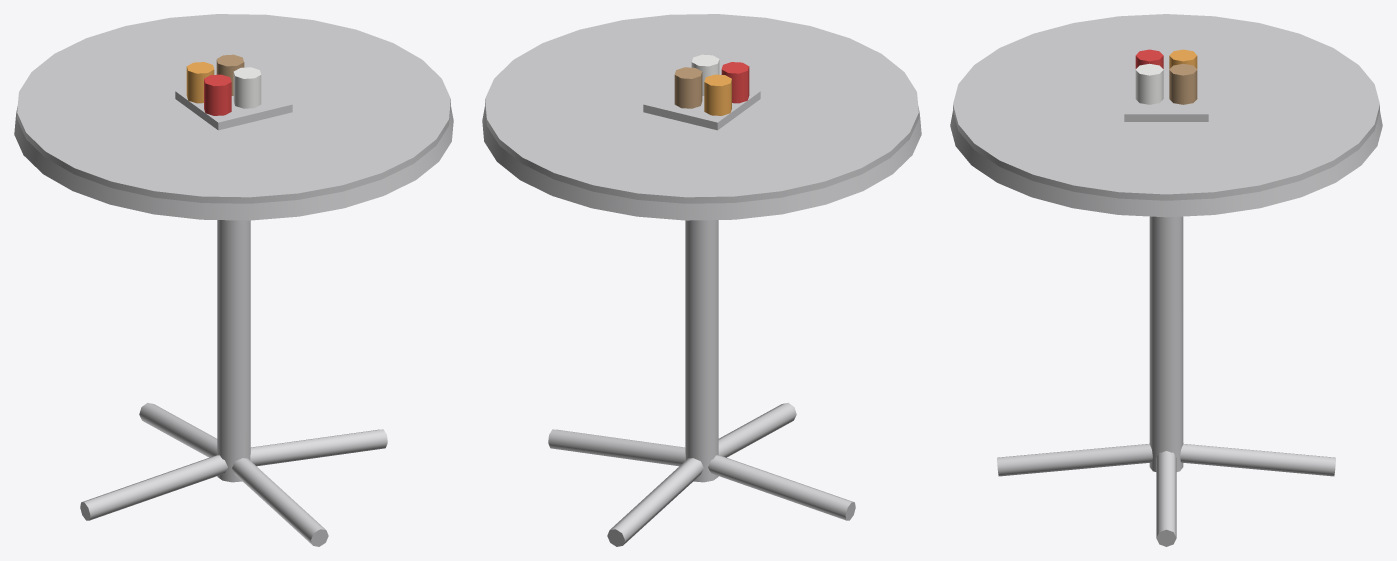
The model's file is SM_SteelTable.fbx.
3 views of the same model, side by side, from view 1: azimuth 30°, elevation 25°; view 2: azimuth 150°, elevation 25°; view 3: azimuth 270°, elevation 25° (orthographic).
Parts seen in each view (by area): view 1: SM_SteelTable; view 2: SM_SteelTable; view 3: SM_SteelTable.
Part boxes in pixels (box(x1,y1,x2,y2)): SM_SteelTable: box(14, 14, 453, 546); SM_SteelTable: box(482, 14, 921, 546); SM_SteelTable: box(950, 14, 1382, 546).
Size of the model in its own units: 0.77 by 0.8029 by 0.77.
